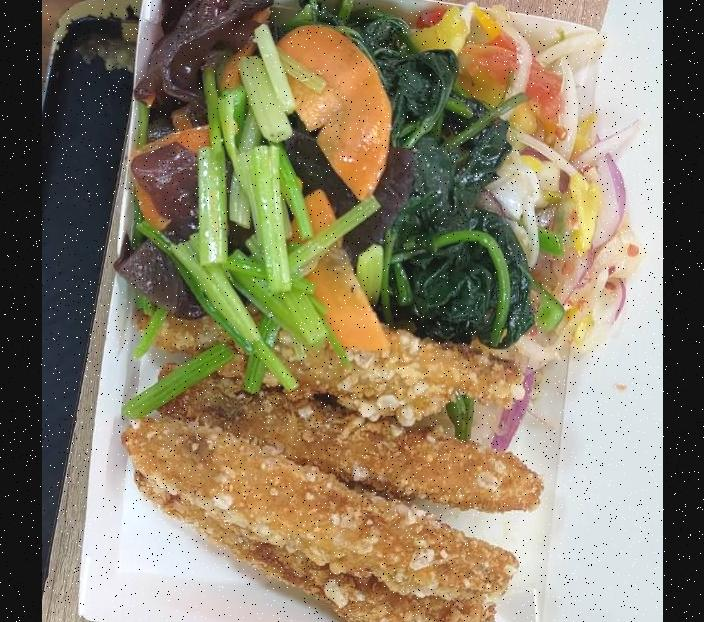big grilled chicken leg: (63, 0, 613, 622)
braised fish fillet: (108, 0, 391, 366), (371, 0, 528, 347), (496, 26, 618, 365)
braised pork: (127, 314, 543, 622)
